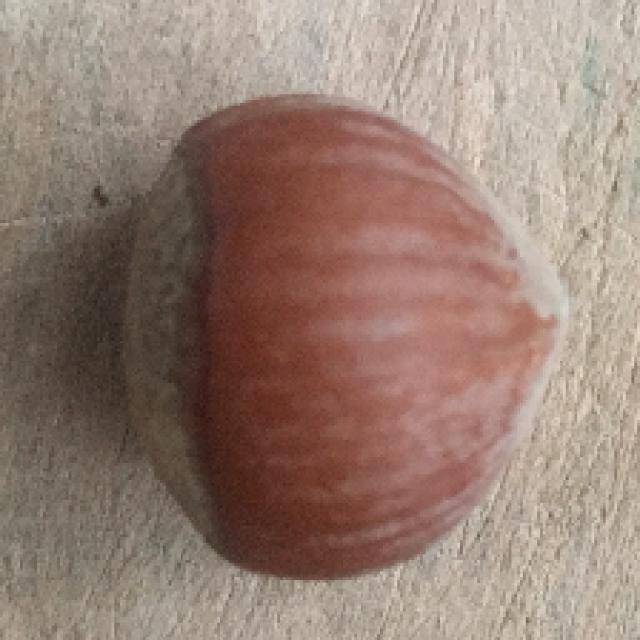QualityHazelnut: (119, 91, 568, 582)
